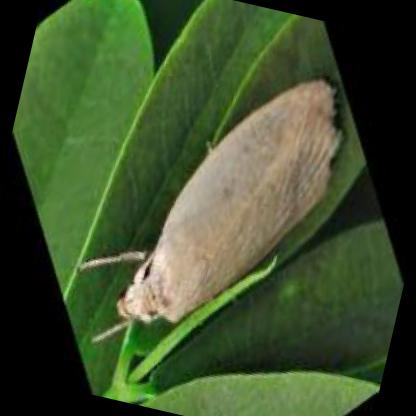Leaf Webber: (74, 80, 344, 347)
